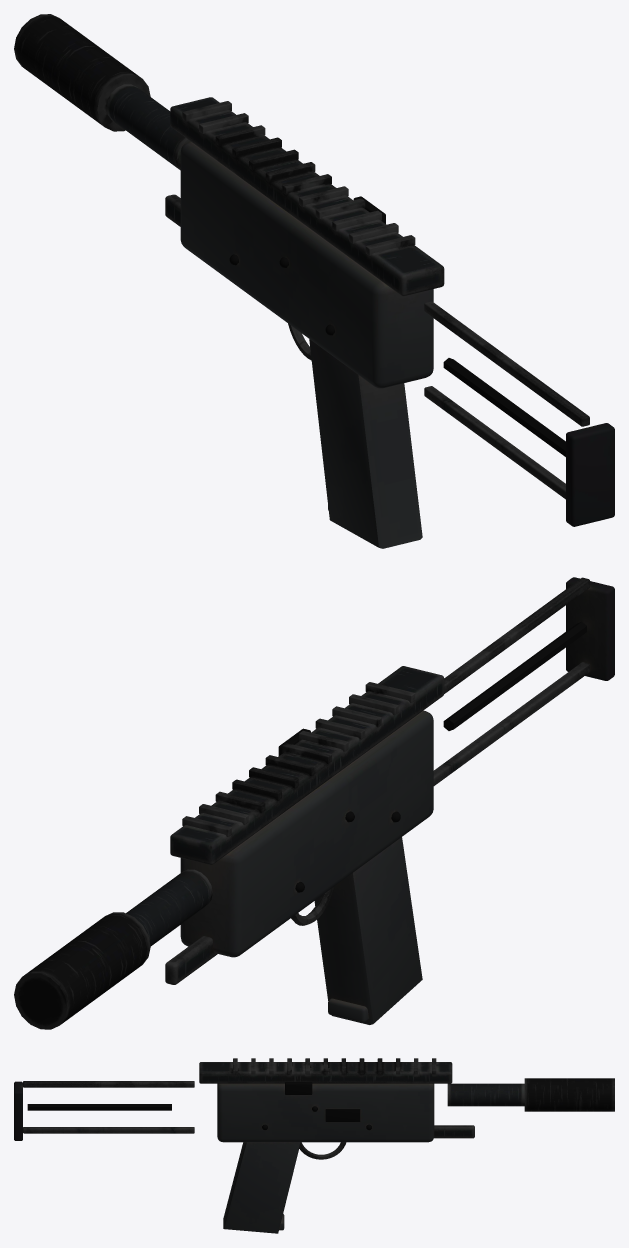
The picture shows the model from 3 angles, top to bottom: view 1: azimuth 30°, elevation 25°; view 2: azimuth 150°, elevation 25°; view 3: azimuth 270°, elevation 25°; orthographic projection. The views are drawn at different scales.
Parts seen in each view (by area): view 1: body_furniture, body_receiver, body_metal; view 2: body_furniture, body_receiver, body_metal, mag_furniture; view 3: body_furniture, body_receiver, body_metal.
Boxes of the visible parts, x1,y1,x2,y2 form: body_furniture: (180,141,433,548); body_receiver: (14,14,589,499); body_metal: (229,196,614,526); body_furniture: (180,710,433,1024); body_receiver: (14,577,589,1029); body_metal: (278,577,614,892); mag_furniture: (328,998,368,1022); body_furniture: (217,1083,434,1233); body_receiver: (23,1058,614,1159); body_metal: (14,1081,371,1140).
Size of the model in its own units: 0.0546 by 0.2007 by 0.665.
4 materials, 4 textured.
